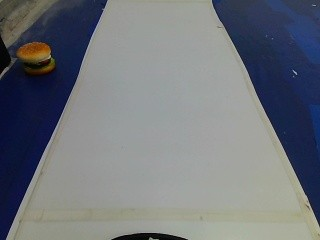burger: (11, 35, 60, 81)
